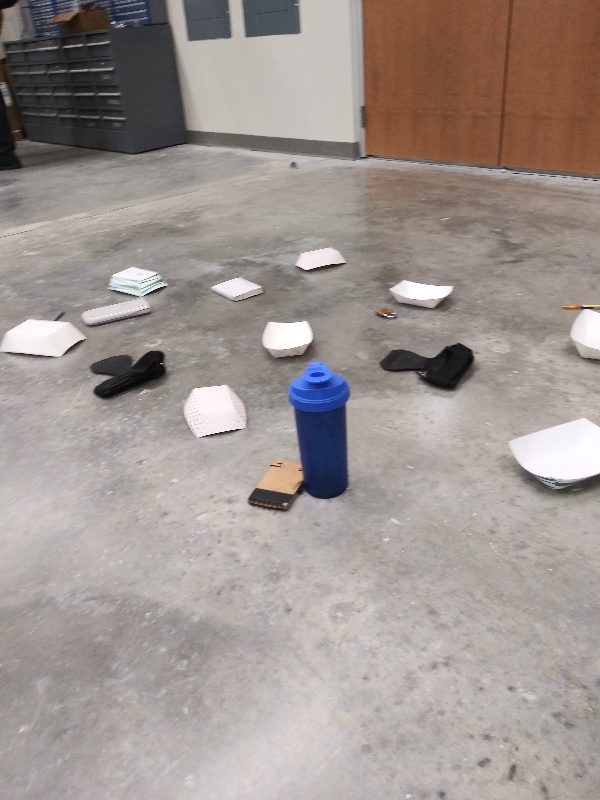plate: (502, 412, 600, 497), (181, 380, 255, 444), (1, 315, 90, 361), (257, 316, 317, 364), (99, 264, 171, 299), (384, 276, 457, 310), (563, 305, 600, 367), (290, 244, 350, 274)
